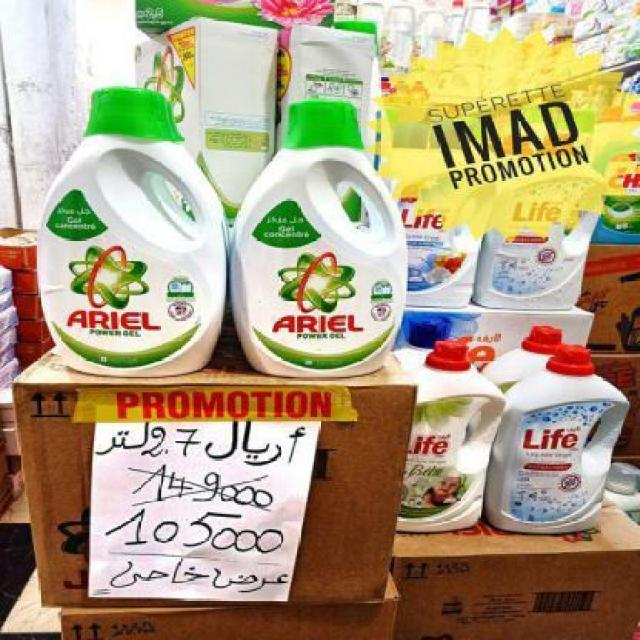Detergent: (34, 83, 230, 375), (233, 95, 399, 373)
